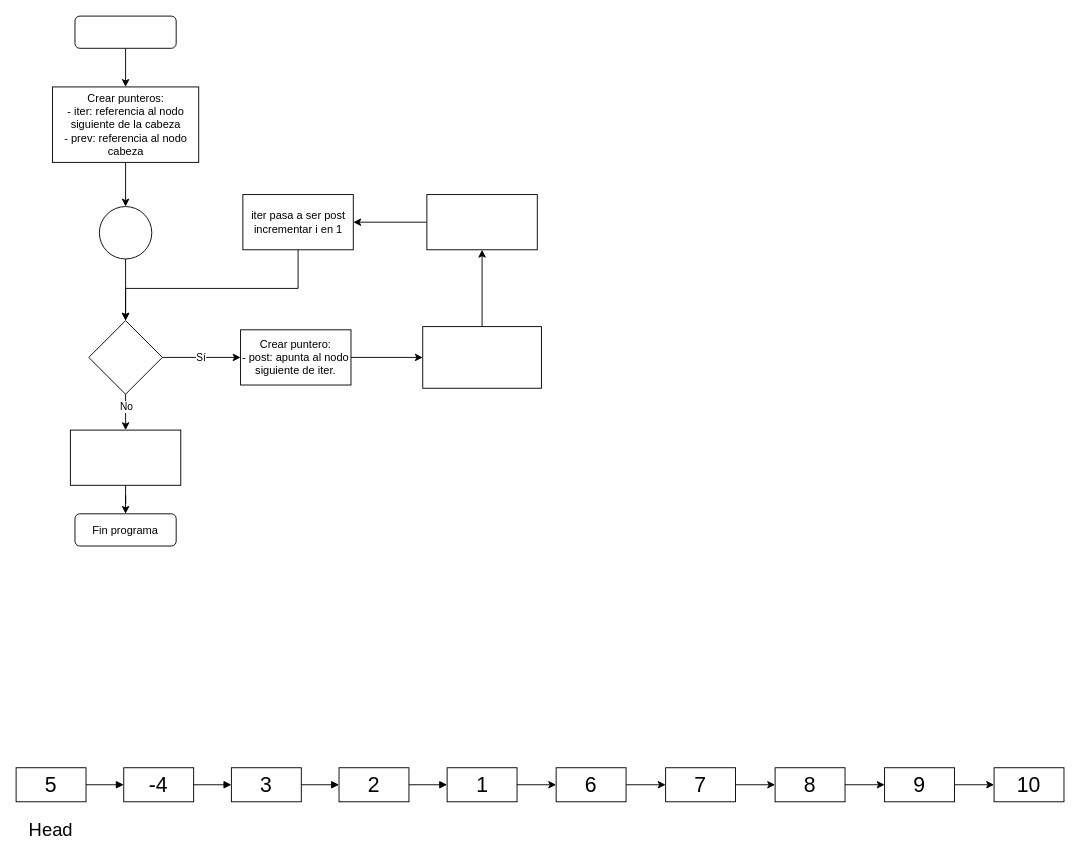
The diagram is 1080 pixels wide and 859 high, and some of its shapes have lost their labels. The shapes that lost their labels are listed below. From the top down, each one's centre as x and y in pixels, then its label:
[125,31]: Inicio programa
[125,232]: Iterar i = 0
[481,222]: prev pasa a ser iter
[125,357]: ¿Es i < k-1?
[481,357]: Enlace del nodo iter pasa a apuntar a prev
[125,457]: Hacer que el enlace de la cabeza sea iter Hacer que la cabeza sea iter
